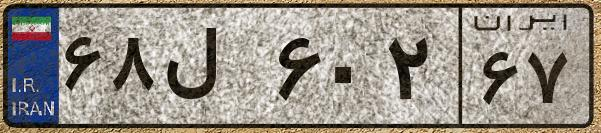0: (330, 28, 385, 110)
2: (385, 28, 445, 110)
6: (270, 28, 330, 110), (57, 26, 110, 100), (475, 38, 525, 113)
7: (525, 38, 570, 115)
8: (110, 28, 158, 98)
ل: (158, 20, 270, 120)
